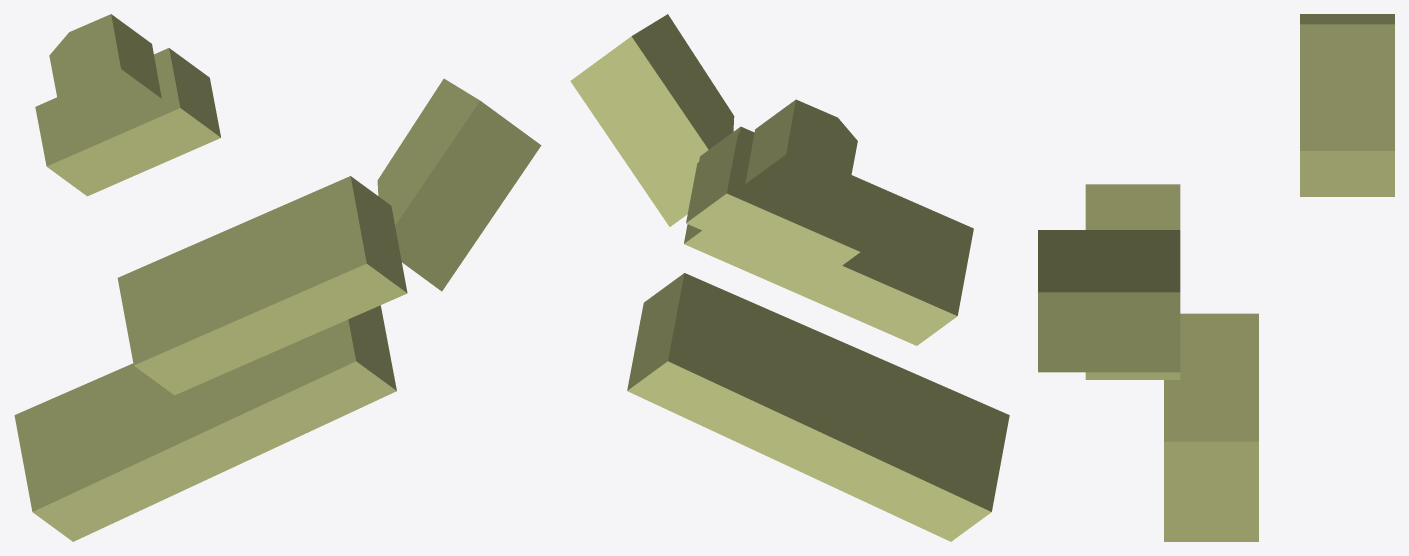
3 renders of one model, left to right at view 1: azimuth 30°, elevation 25°; view 2: azimuth 150°, elevation 25°; view 3: azimuth 270°, elevation 25°, orthographic. The views are drawn at different scales.
Parts seen in each view (by area): view 1: 0_0_1_1_3_2_3_0_1; view 2: 0_0_1_1_3_2_3_0_1; view 3: 0_0_1_1_3_2_3_0_1.
Part boxes in pixels (x1,y1,x2,y2): 0_0_1_1_3_2_3_0_1: (14,14,541,541); 0_0_1_1_3_2_3_0_1: (570,14,1009,541); 0_0_1_1_3_2_3_0_1: (1038,14,1394,541).
Size of the model in its own units: 36.7 by 34.23 by 22.55.
